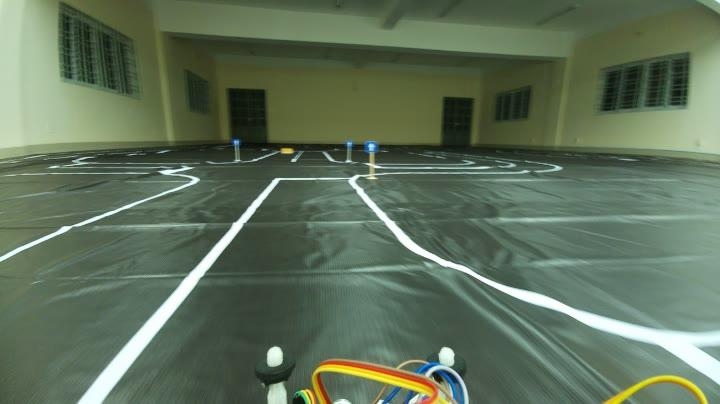onewayroad: (365, 138, 379, 152), (344, 139, 353, 148), (230, 136, 239, 144)
roadblock: (279, 146, 294, 154)
